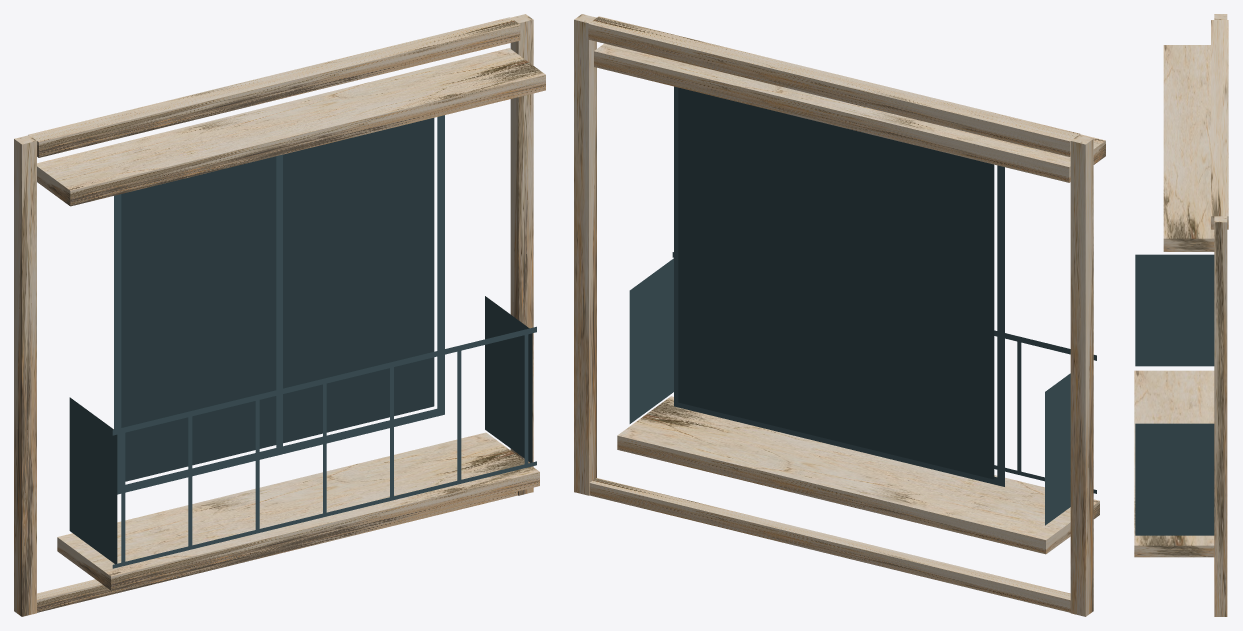
File: facade_tropical_apartment_upper.glb
3 renders of one model, left to right at view 1: azimuth 30°, elevation 25°; view 2: azimuth 150°, elevation 25°; view 3: azimuth 270°, elevation 25°, orthographic. The views are drawn at different scales.
Visible parts, largest first — view 1: lod1_facade_tropical_apartment_upper__VVK_dark_glass, lod1_facade_tropical_apartment_upper__VVK_concrete_CC0, lod1_facade_tropical_apartment_upper__VVK_painted_steel; view 2: lod1_facade_tropical_apartment_upper__VVK_dark_glass, lod1_facade_tropical_apartment_upper__VVK_concrete_CC0, lod1_facade_tropical_apartment_upper__VVK_painted_steel; view 3: lod1_facade_tropical_apartment_upper__VVK_concrete_CC0, lod1_facade_tropical_apartment_upper__VVK_painted_steel.
Boxes of the visible parts, x1=… form: lod1_facade_tropical_apartment_upper__VVK_dark_glass: x1=121, y1=118, x2=434, y2=481; lod1_facade_tropical_apartment_upper__VVK_concrete_CC0: x1=14, y1=14, x2=545, y2=616; lod1_facade_tropical_apartment_upper__VVK_painted_steel: x1=69, y1=115, x2=536, y2=568; lod1_facade_tropical_apartment_upper__VVK_dark_glass: x1=678, y1=87, x2=994, y2=479; lod1_facade_tropical_apartment_upper__VVK_concrete_CC0: x1=574, y1=14, x2=1105, y2=616; lod1_facade_tropical_apartment_upper__VVK_painted_steel: x1=629, y1=86, x2=1096, y2=525; lod1_facade_tropical_apartment_upper__VVK_concrete_CC0: x1=1134, y1=14, x2=1228, y2=616; lod1_facade_tropical_apartment_upper__VVK_painted_steel: x1=1135, y1=254, x2=1214, y2=535.
Size of the model in its own units: 3.4 by 3 by 0.648.
3 materials, 1 textured.
